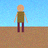person: (14, 4, 27, 32)
